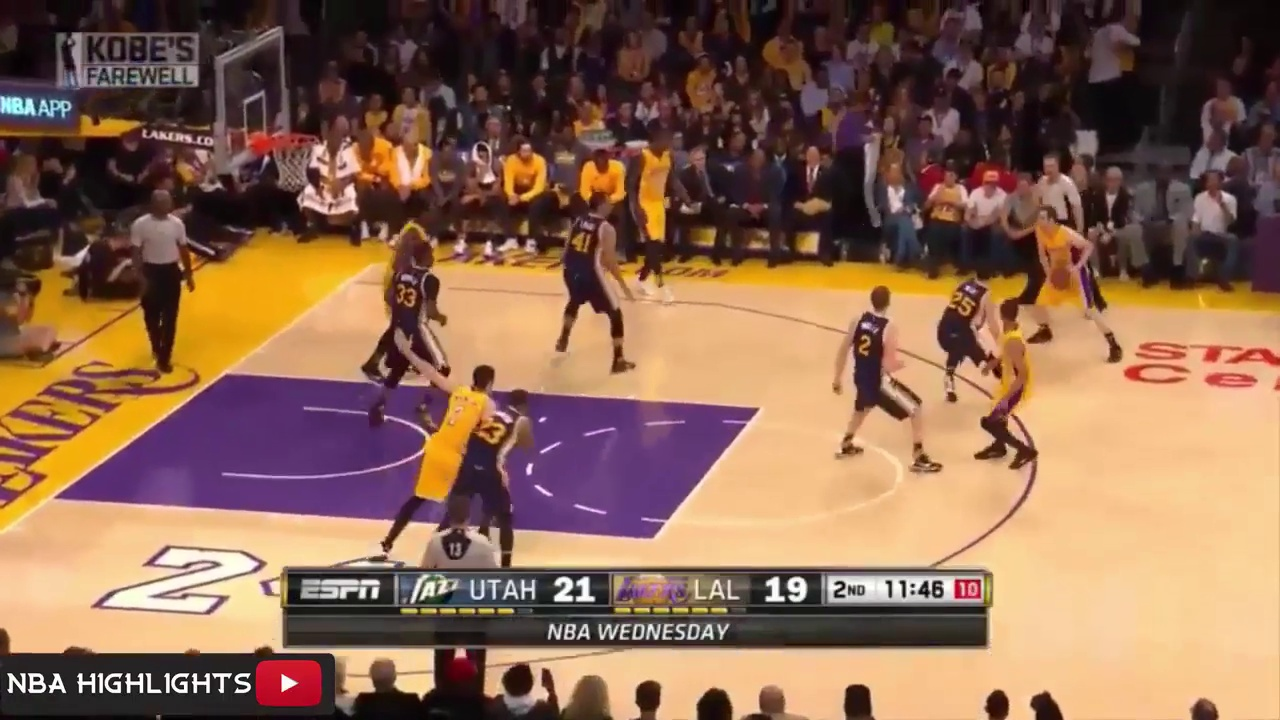jazz: (828, 282, 938, 471), (552, 188, 629, 380), (467, 386, 529, 567), (382, 246, 443, 425), (943, 261, 1000, 406)
lakers: (385, 326, 493, 544), (1029, 205, 1121, 354), (628, 130, 690, 299), (991, 301, 1037, 470), (383, 200, 443, 304)
